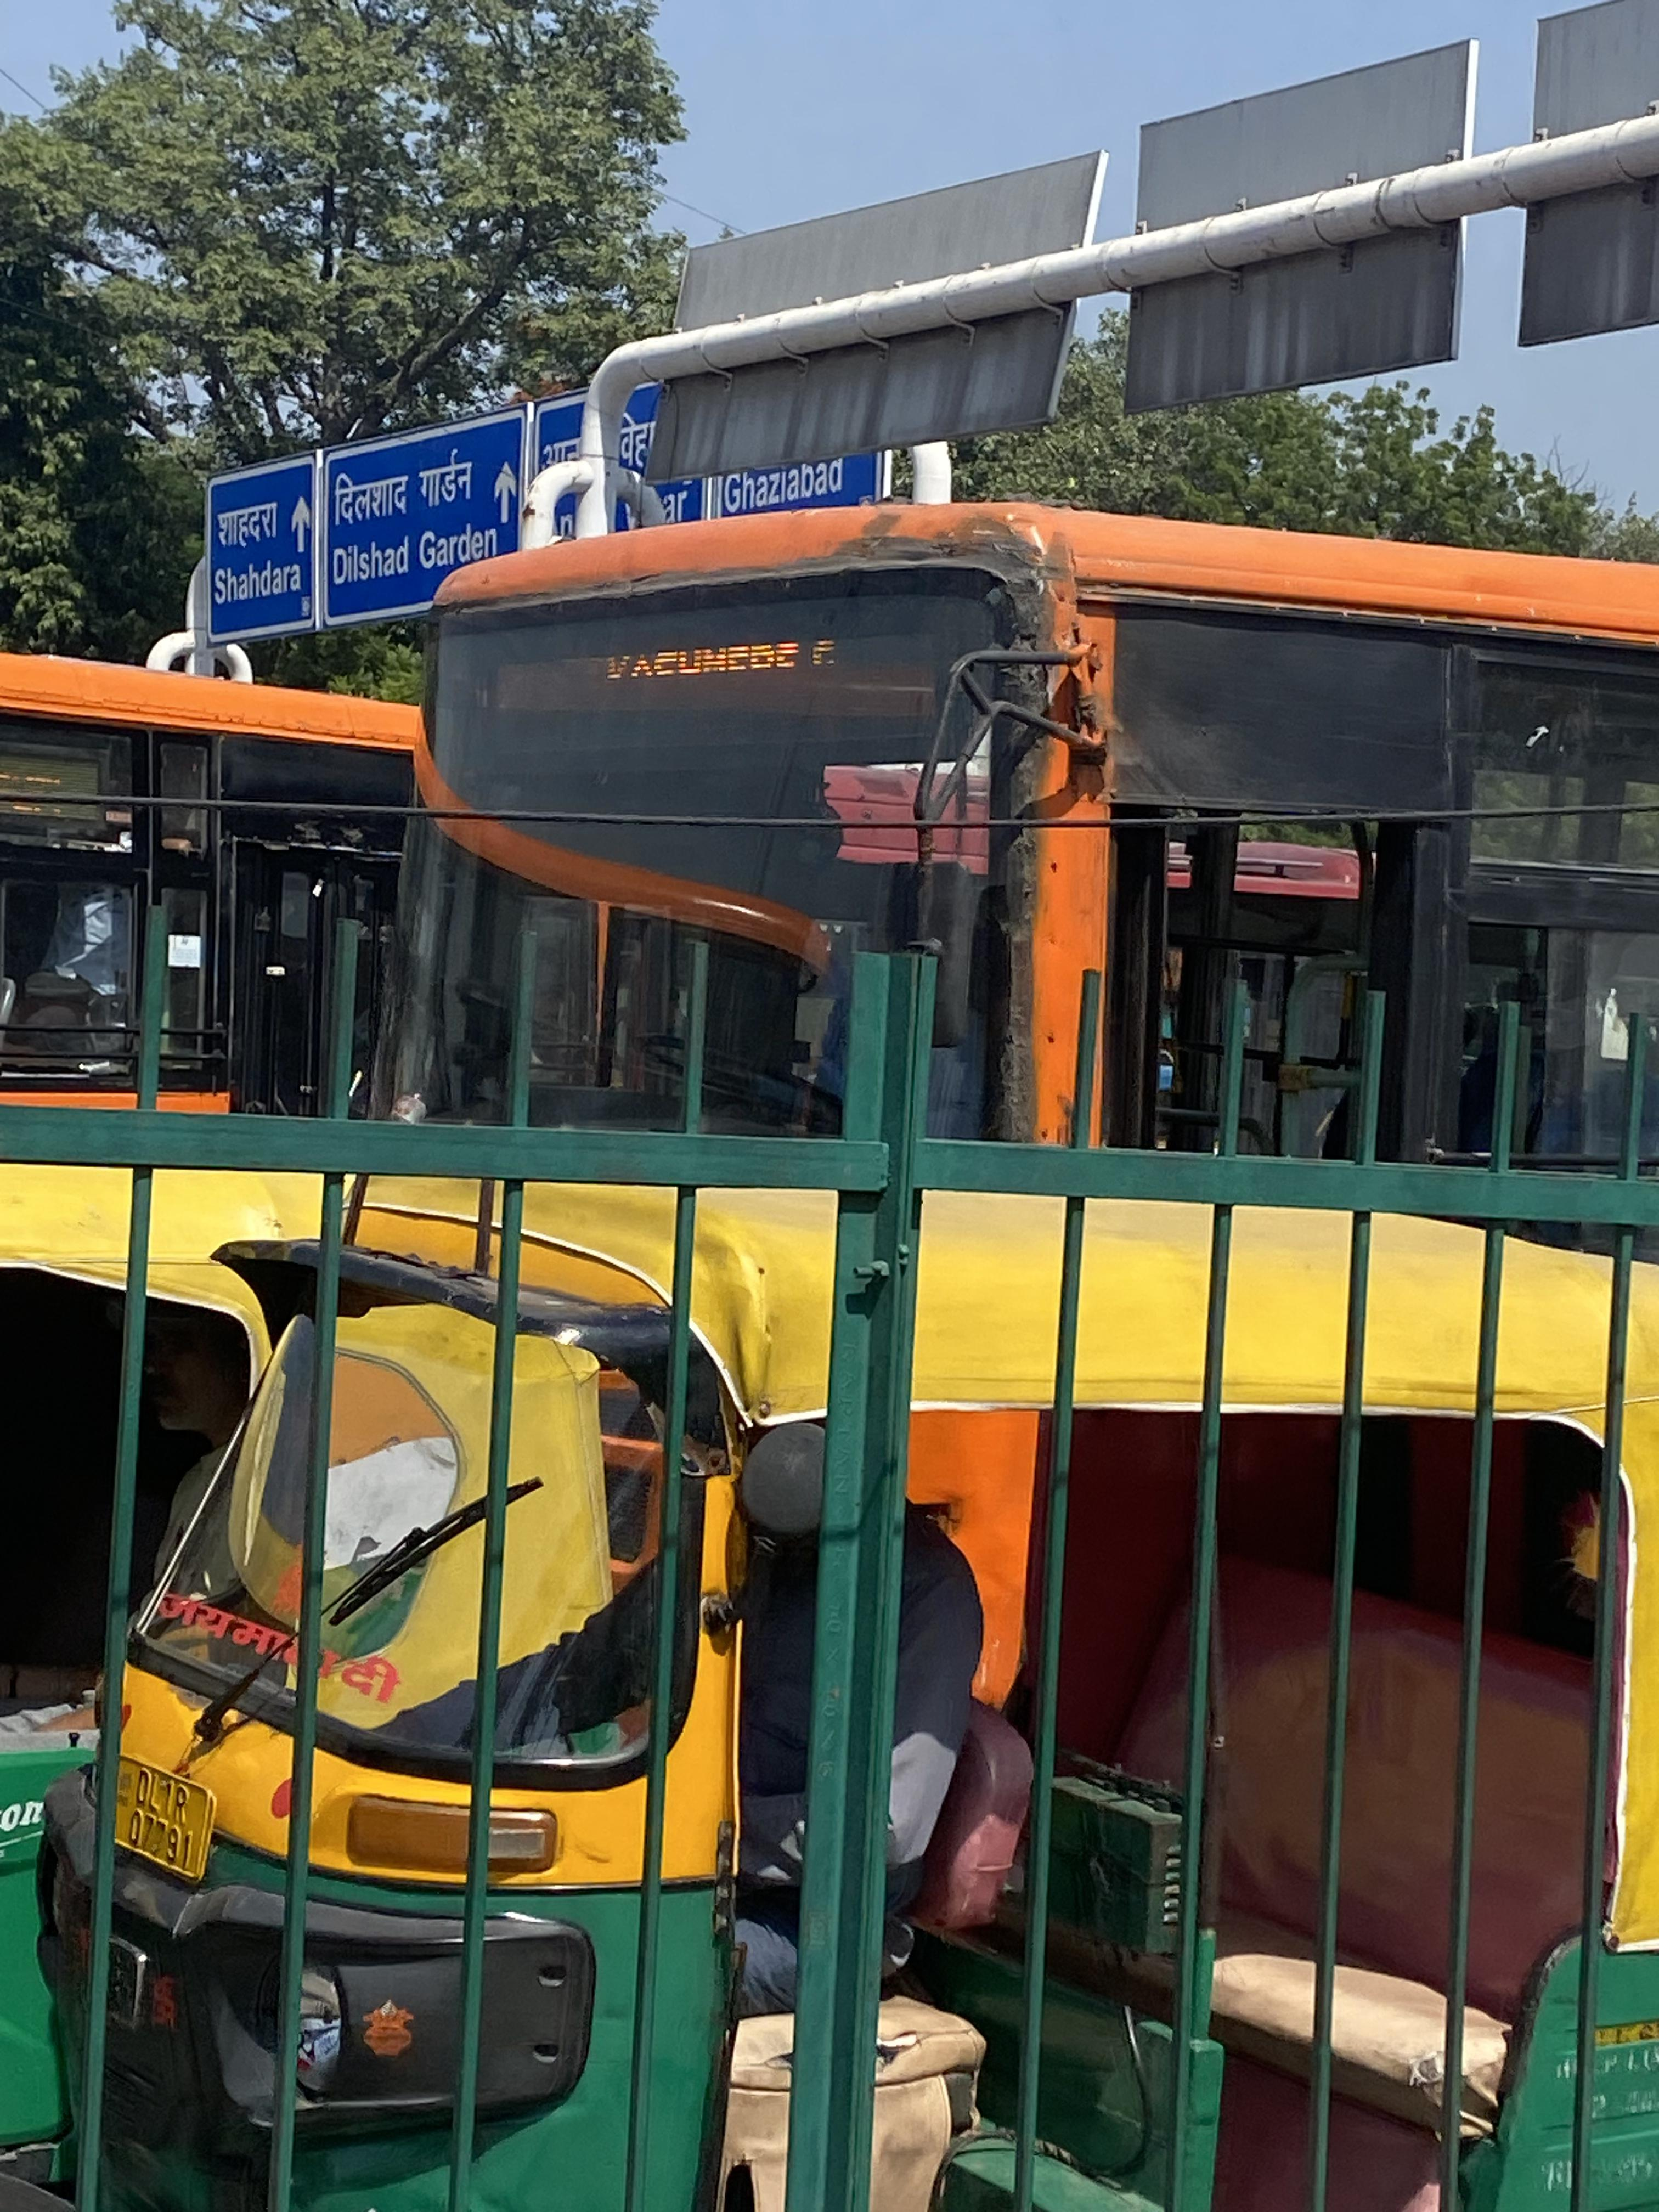Bus: (378, 455, 1213, 1230), (0, 625, 477, 1146)
Display Board: (460, 549, 1065, 834)
